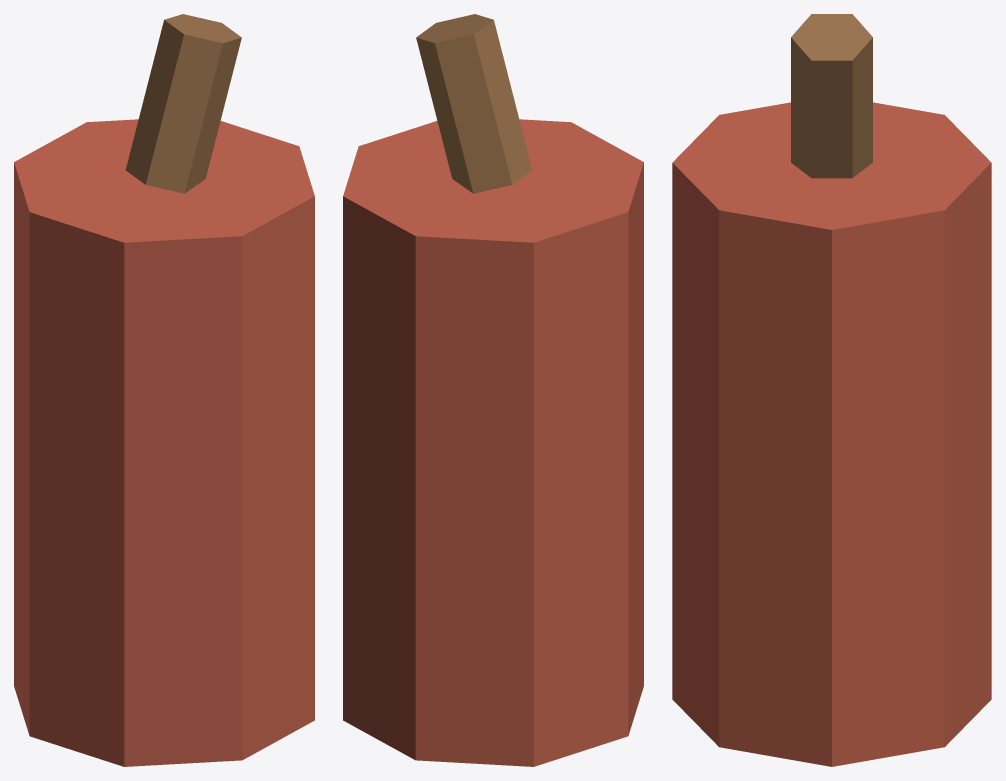
Rendered from firecracker.glb.
The picture shows the model from 3 angles, left to right: view 1: azimuth 30°, elevation 25°; view 2: azimuth 150°, elevation 25°; view 3: azimuth 270°, elevation 25°; orthographic projection. The views are drawn at different scales.
Visible parts, largest first — view 1: Red_paper; view 2: Red_paper; view 3: Red_paper.
Boxes of the visible parts, left/top/right/bottom form: Red_paper: left=14, top=14, right=314, bottom=766; Red_paper: left=343, top=14, right=643, bottom=766; Red_paper: left=672, top=14, right=991, bottom=766.
Bounding box in the file's own units: 0.07 × 0.1671 × 0.07.
